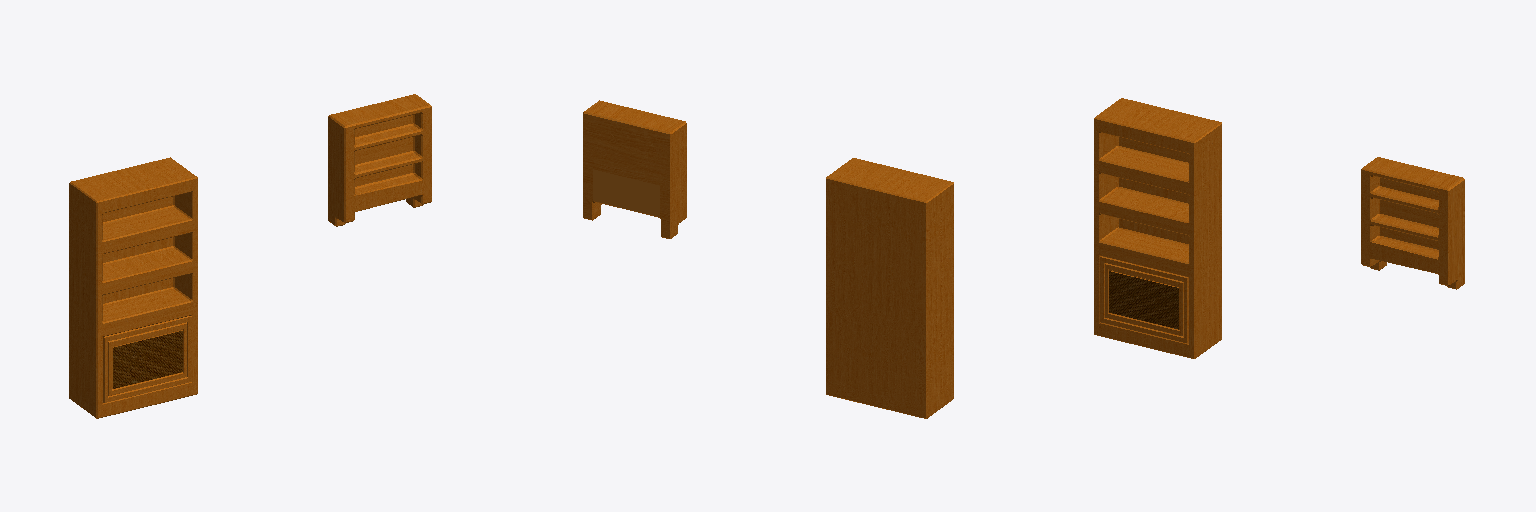
The picture shows the model from 3 angles: view 1: azimuth 30°, elevation 25°; view 2: azimuth 150°, elevation 25°; view 3: azimuth 330°, elevation 25°; orthographic projection.
Parts seen in each view (by area): view 1: MueblesCafes1:Mesh; view 2: MueblesCafes1:Mesh; view 3: MueblesCafes1:Mesh.
Part boxes in pixels (bbox=[...]): MueblesCafes1:Mesh: bbox=[69, 94, 431, 418]; MueblesCafes1:Mesh: bbox=[583, 100, 953, 418]; MueblesCafes1:Mesh: bbox=[1094, 98, 1464, 358].
Bounding box in the file's own units: 8.07 × 4.96 × 1.14.
Materials: 3 (2 with a texture image).